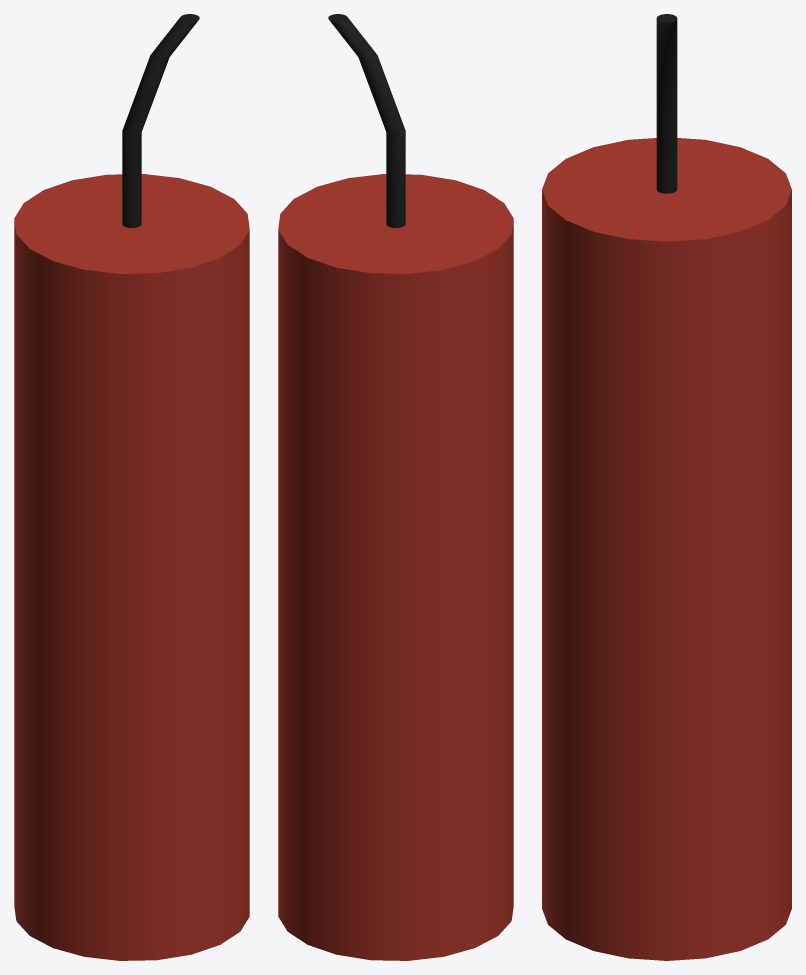
Rendered from dynamite_stick.fbx.
3 views of the same model, side by side, from view 1: azimuth 30°, elevation 25°; view 2: azimuth 150°, elevation 25°; view 3: azimuth 270°, elevation 25° (orthographic). The views are drawn at different scales.
Visible parts, largest first — view 1: pCylinder1; view 2: pCylinder1; view 3: pCylinder1.
Boxes of the visible parts, x1,y1,x2,y2 form: pCylinder1: [14, 14, 249, 960]; pCylinder1: [278, 14, 513, 960]; pCylinder1: [542, 14, 791, 960].
Bounding box in the file's own units: 15.82 × 64.97 × 16.
